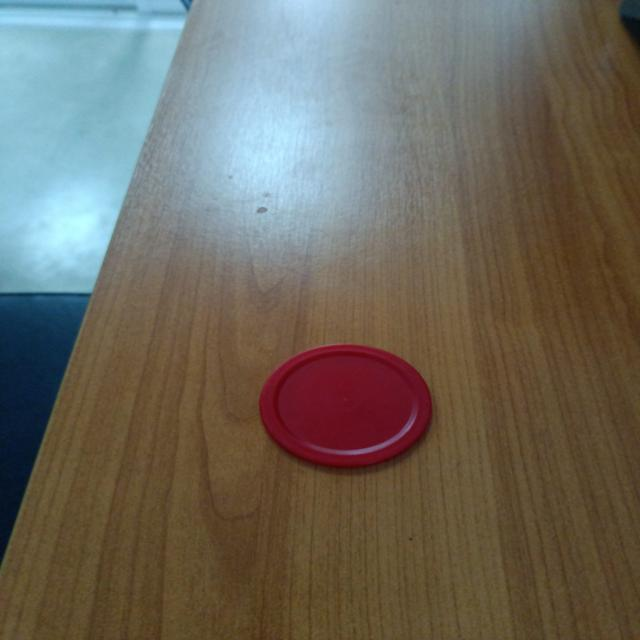chip: (256, 341, 436, 468)
